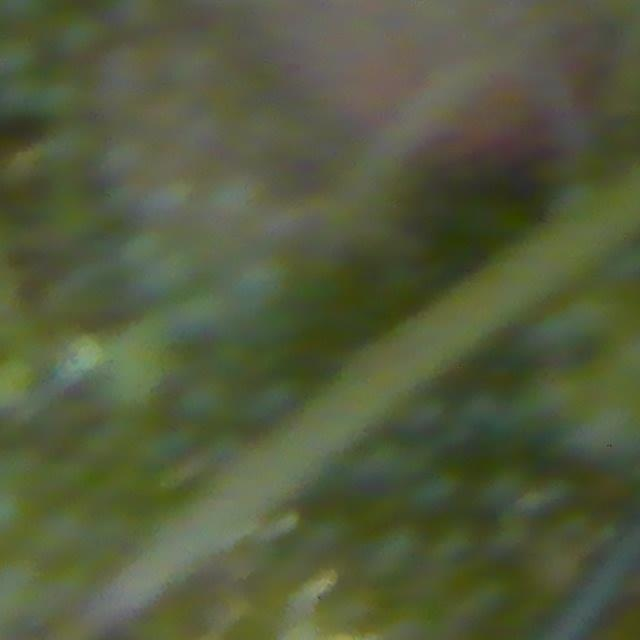SeaGrape: (51, 4, 107, 58), (0, 32, 40, 79)
